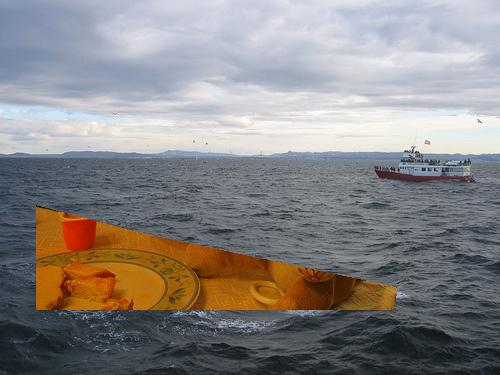tampered: (37, 206, 397, 310)
